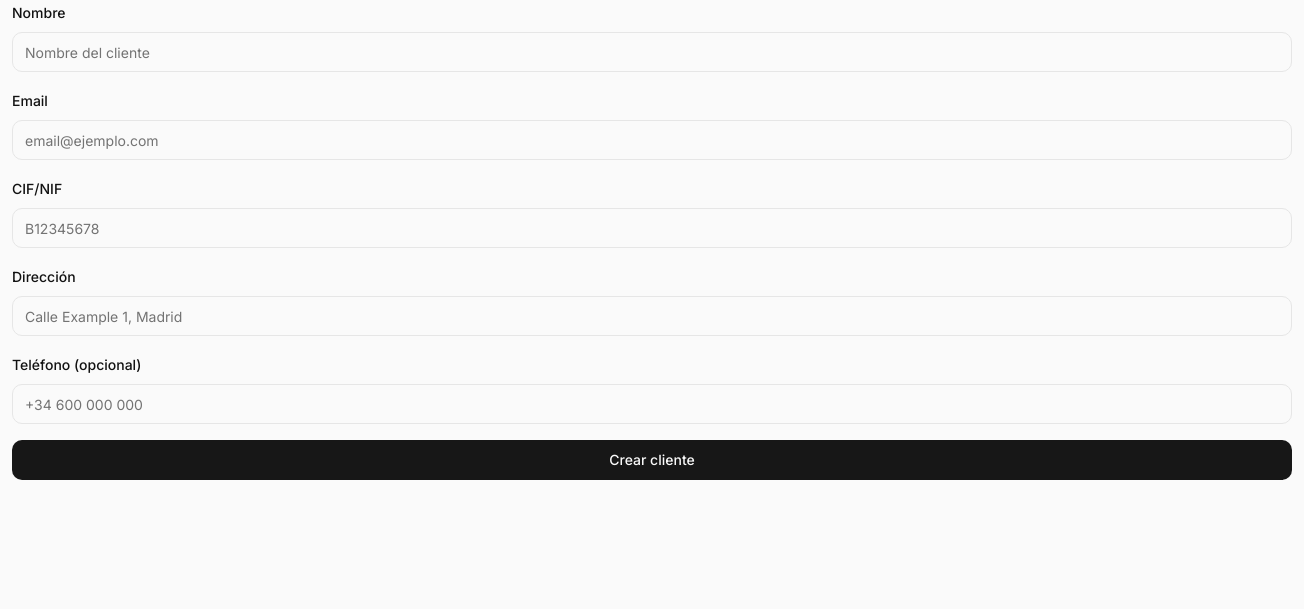
it: ClientForm › shows validation errors when submitting with empty required fields
The width and height of the screenshot is (1304, 609).
Click the button "Crear cliente" at (652, 460), box [12,440,1292,480]
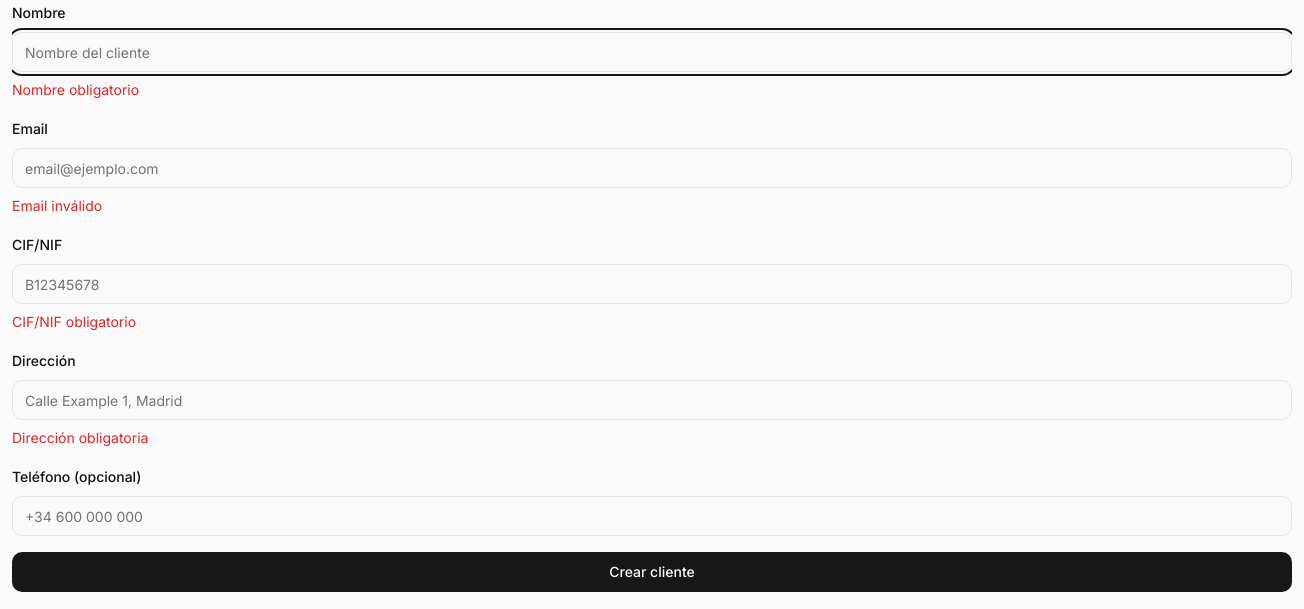
Result: the text "Nombre obligatorio" is shown at [12,81,139,98]
